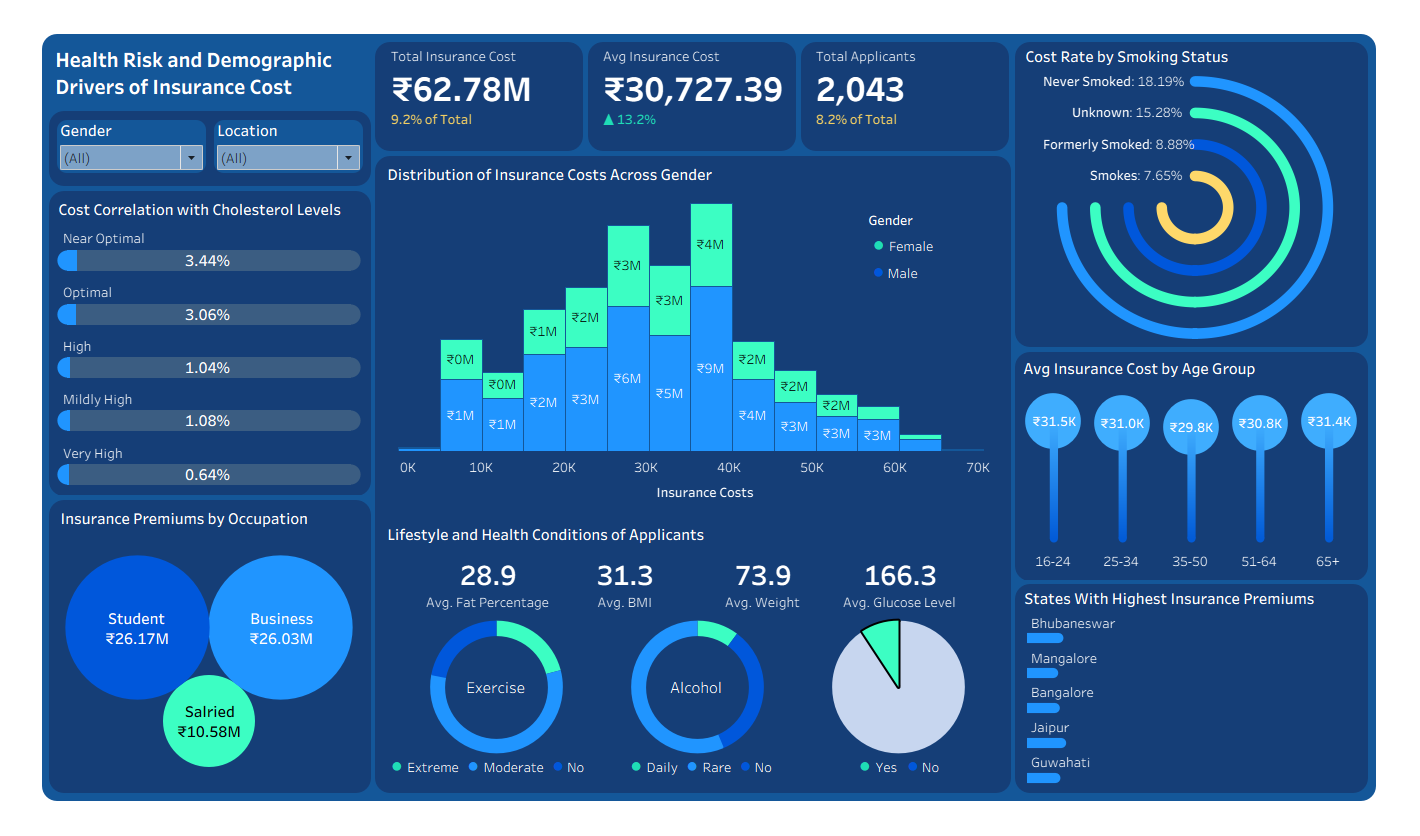

What the dashboard file says about the page in this screenshot:
{"tool":"tableau","page":{"name":"Overview","canvas":[1000,1000],"units":"permille","ordinal":0},"visuals":[{"type":"worksheet","title":"Total Insure","mark":"Automatic","box":[296.3,52.9,126.1,134]},{"type":"worksheet","title":"Avg Insure","mark":"Automatic","box":[424.9,52.9,126.1,134]},{"type":"worksheet","title":"Count of App.","mark":"Automatic","box":[554,52.9,126.1,134]},{"type":"blank","box":[89.9,56.4,808.7,902.5]},{"type":"text","box":[96,58.8,210.6,85.8]},{"type":"text","box":[683.8,62.3,188.9,41.1]},{"type":"blank","box":[291.5,65.8,126.1,128.1]},{"type":"blank","box":[420.6,65.8,126.1,128.1]},{"type":"blank","box":[549.8,65.8,126.1,128.1]},{"type":"blank","box":[679.5,65.8,214.2,358.4]},{"type":"worksheet","title":"Smoking Radial","mark":"Line","box":[696.4,90.5,183.5,338.4]},{"type":"blank","box":[94.2,146.9,194.9,88.1]},{"type":"filter","title":"Filters","param":"[federated.0mix84j1bg9yli1973xne18jgpg7].[none:Gender:nk]","box":[99,157.5,90.5,62.3]},{"type":"filter","title":"Filters","param":"[federated.0mix84j1bg9yli1973xne18jgpg7].[none:Location:nk]","box":[193.7,157.5,90.5,62.3]},{"type":"blank","box":[291.6,199.8,385.2,749.7]},{"type":"text","box":[296.9,200.9,214.8,41.1]},{"type":"worksheet","title":"Filters","mark":"Automatic","box":[284.9,216.2,333.1,332.6]},{"type":"worksheet","title":"Dist, Ins. by Gender","mark":"Bar","rows":["applicant_id"],"cols":["Insurance Cost (bin)"],"box":[305.4,240,372.1,374.1]},{"type":"blank","box":[94.2,240.9,194.9,358.4]},{"type":"text","box":[97.8,242.1,176.8,41.1]},{"type":"text","box":[588.7,260.9,59.6,94]},{"type":"worksheet","title":"Cholestrol Level Labels","mark":"Circle","rows":["cholesterol_level"],"box":[99,264.4,141.2,316.1]},{"type":"worksheet","title":"Cholestrol Level","mark":"Automatic","rows":["cholesterol_level"],"box":[90.5,291.4,201,313.8]},{"type":"text","box":[682.6,428.9,187.7,41.1]},{"type":"blank","box":[679.5,430.1,214.2,269.1]},{"type":"worksheet","title":"Age Dist.","mark":"Line","rows":["insurance_cost"],"box":[682,472.4,208.2,215]},{"type":"blank","box":[94.2,605.2,194.9,344.3]},{"type":"text","box":[99,606.4,172,41.1]},{"type":"text","box":[297,624.7,206.1,41.2]},{"type":"worksheet","title":"Medical Status","mark":"Automatic","box":[318.7,640.4,333.1,104.6]},{"type":"worksheet","title":"Occupation","mark":"Circle","box":[103,655.7,174.9,278.5]},{"type":"worksheet","title":"Medical Status Titles","mark":"Automatic","box":[318.2,687.1,332.7,70.6]},{"type":"text","box":[683,700,194.6,41.2]},{"type":"blank","box":[679.5,703.9,214.2,245.6]},{"type":"worksheet","title":"Exercise Chart","mark":"Pie","cols":["Calculation_1264201156042767","Calculation_1264201156079633"],"box":[304.2,722.7,121.9,204.5]},{"type":"worksheet","title":"Alcohol","mark":"Pie","cols":["Calculation_1264201156042767","Calculation_1264201156079633"],"box":[426.1,722.7,121.9,204.5]},{"type":"worksheet","title":"Sport","mark":"Pie","cols":["Calculation_1264201156042767","Calculation_1264201156079633"],"box":[548,722.7,121.9,204.5]},{"type":"worksheet","title":"Location Labels","mark":"Circle","rows":["Location (copy)_1246884514562048"],"box":[685.6,728.6,144.8,204.5]},{"type":"worksheet","title":"Location","mark":"Line","rows":["Location (copy)_1246884514562048"],"box":[686.8,746.2,204.6,205.6]},{"type":"text","box":[294.7,895.4,130.3,41.1]},{"type":"text","box":[436.7,895.4,104.2,41.1]},{"type":"text","box":[574.5,895.4,68.8,41.1]}]}

Visuals, with their boxes on the dashboard's canvas, which has no fixed pixel size, in thousandths of its width and height (x1, y1, x2, y2). These are canvas units, not pixel positions in the 1420x836 screenshot, which may show the page scaled, cropped or inside an application window:
"Total Insure" worksheet: 296 53 422 187
"Avg Insure" worksheet: 425 53 551 187
"Count of App." worksheet: 554 53 680 187
blank: 90 56 899 959
text: 96 59 307 145
text: 684 62 873 103
blank: 292 66 418 194
blank: 421 66 547 194
blank: 550 66 676 194
blank: 680 66 894 424
"Smoking Radial" worksheet (Line marks): 696 90 880 429
blank: 94 147 289 235
"Filters" filter: 99 158 190 220
"Filters" filter: 194 158 284 220
blank: 292 200 677 950
text: 297 201 512 242
"Filters" worksheet: 285 216 618 549
"Dist, Ins. by Gender" worksheet (Bar marks): 305 240 678 614
blank: 94 241 289 599
text: 98 242 275 283
text: 589 261 648 355
"Cholestrol Level Labels" worksheet (Circle marks): 99 264 240 580
"Cholestrol Level" worksheet: 90 291 292 605
text: 683 429 870 470
blank: 680 430 894 699
"Age Dist." worksheet (Line marks): 682 472 890 687
blank: 94 605 289 950
text: 99 606 271 648
text: 297 625 503 666
"Medical Status" worksheet: 319 640 652 745
"Occupation" worksheet (Circle marks): 103 656 278 934
"Medical Status Titles" worksheet: 318 687 651 758
text: 683 700 878 741
blank: 680 704 894 950
"Exercise Chart" worksheet (Pie marks): 304 723 426 927
"Alcohol" worksheet (Pie marks): 426 723 548 927
"Sport" worksheet (Pie marks): 548 723 670 927
"Location Labels" worksheet (Circle marks): 686 729 830 933
"Location" worksheet (Line marks): 687 746 891 952
text: 295 895 425 936
text: 437 895 541 936
text: 574 895 643 936
